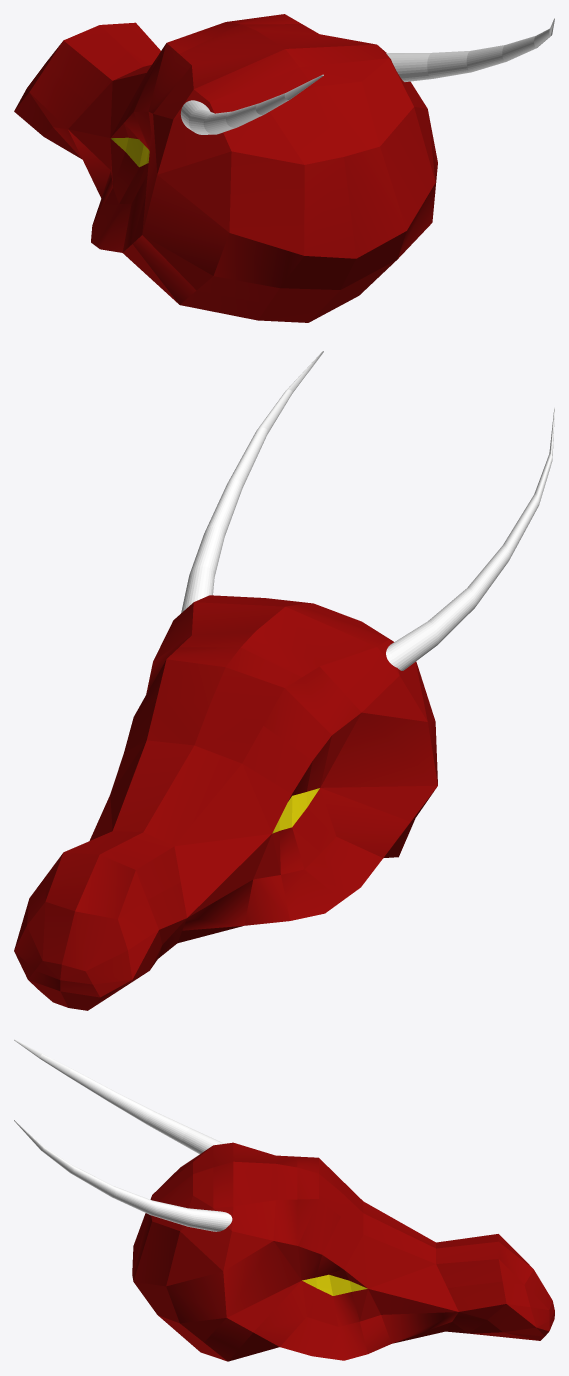
The model's file is Doragon_Head.obj.
3 views of the same model, one above another, from view 1: azimuth 30°, elevation 25°; view 2: azimuth 150°, elevation 25°; view 3: azimuth 270°, elevation 25° (orthographic). The views are drawn at different scales.
Parts seen in each view (by area): view 1: 頭_角_円柱; view 2: 頭_角_円柱; view 3: 頭_角_円柱.
Part boxes in pixels (box(x1,y1,x2,y2)): 頭_角_円柱: box(14, 14, 554, 322); 頭_角_円柱: box(14, 351, 554, 1010); 頭_角_円柱: box(14, 1039, 554, 1361).
Size of the model in its own units: 0.5316 by 0.6391 by 1.18.
1 material, 1 textured.
